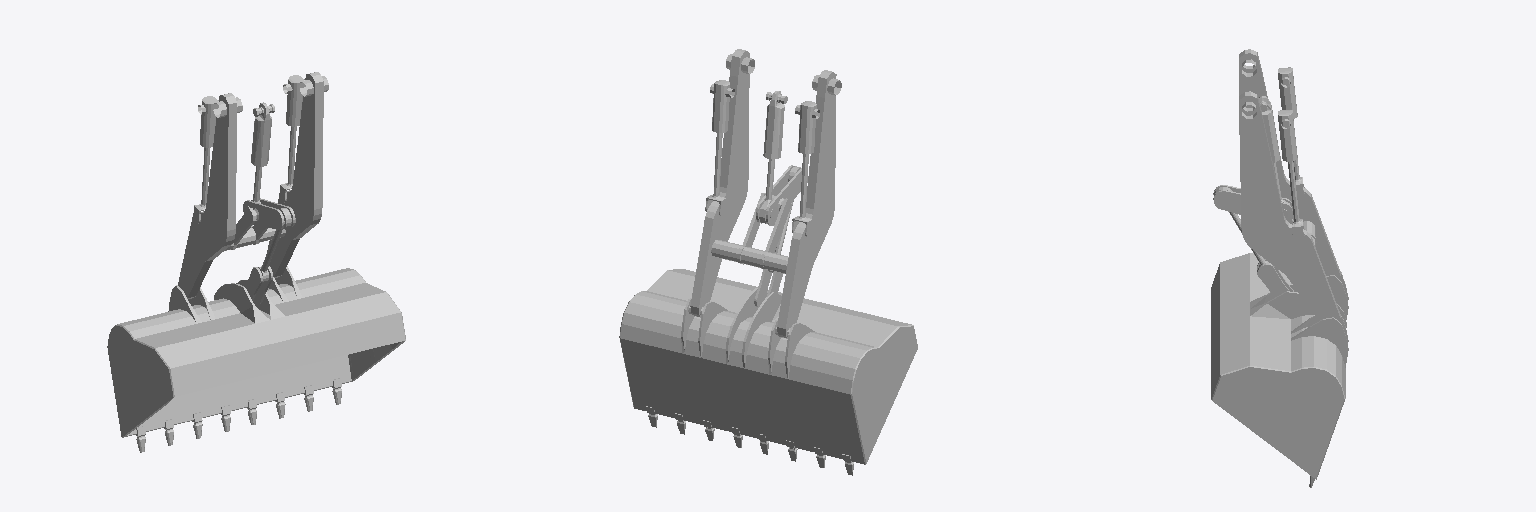
Rendered from GArmMaquina.obj.
3 views of the same model, side by side, from view 1: azimuth 30°, elevation 25°; view 2: azimuth 150°, elevation 25°; view 3: azimuth 270°, elevation 25° (orthographic).
Visible parts, largest first — view 1: kovsh_low, balki_kovsha_low, amortizators_small_2_low, amortizator_low, tooths_low, balki_kovsha_01_low; view 2: kovsh_low, balki_kovsha_low, amortizators_small_2_low, amortizator_low, balki_kovsha_01_low, tooths_low; view 3: kovsh_low, balki_kovsha_low, amortizators_small_2_low, balki_kovsha_01_low, amortizator_low.
Part boxes in pixels (bbox=[...]): kovsh_low: bbox=[107, 268, 405, 437]; balki_kovsha_low: bbox=[168, 72, 328, 323]; amortizators_small_2_low: bbox=[193, 75, 304, 223]; amortizator_low: bbox=[245, 102, 291, 282]; tooths_low: bbox=[136, 378, 341, 452]; balki_kovsha_01_low: bbox=[243, 198, 295, 303]; kovsh_low: bbox=[619, 269, 917, 464]; balki_kovsha_low: bbox=[681, 49, 841, 378]; amortizators_small_2_low: bbox=[705, 80, 819, 236]; amortizator_low: bbox=[759, 91, 800, 272]; balki_kovsha_01_low: bbox=[754, 165, 801, 307]; tooths_low: bbox=[646, 406, 853, 475]; kovsh_low: bbox=[1211, 253, 1345, 479]; balki_kovsha_low: bbox=[1239, 49, 1348, 367]; amortizators_small_2_low: bbox=[1278, 67, 1304, 241]; balki_kovsha_01_low: bbox=[1213, 185, 1293, 297]; amortizator_low: bbox=[1214, 96, 1290, 267].
Bounding box in the file's own units: 3.14 × 4.73 × 1.6.